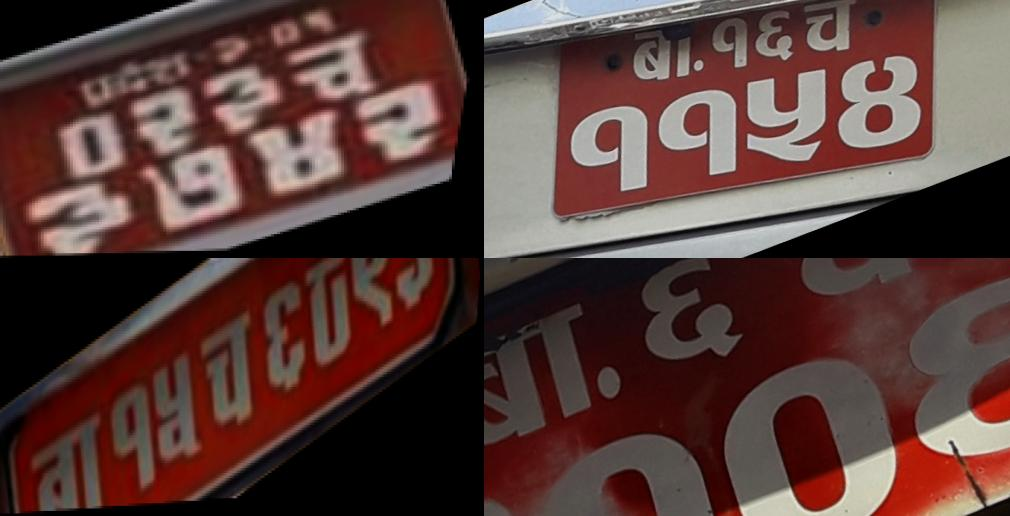0: (692, 331, 953, 516), (512, 407, 768, 516), (47, 104, 149, 187), (258, 13, 310, 52)
1: (643, 73, 771, 202), (556, 91, 683, 217), (100, 369, 172, 510), (698, 5, 772, 89), (295, 2, 347, 42)
2: (342, 72, 472, 175), (119, 79, 223, 165), (206, 31, 260, 70)
3: (18, 165, 160, 257), (193, 56, 303, 142), (381, 258, 440, 325)
4: (816, 33, 950, 165), (237, 104, 375, 205)
5: (727, 50, 862, 182), (141, 340, 216, 481)
6: (873, 258, 1010, 511), (609, 258, 780, 401), (251, 272, 320, 412), (741, 0, 815, 77)
7: (133, 139, 266, 242)
8: (295, 258, 365, 382)
9: (338, 258, 403, 353)
ba: (484, 288, 652, 472), (618, 7, 716, 100), (29, 411, 117, 514)
cha: (754, 258, 969, 346), (274, 22, 401, 118), (190, 304, 270, 454), (789, 0, 880, 70)
